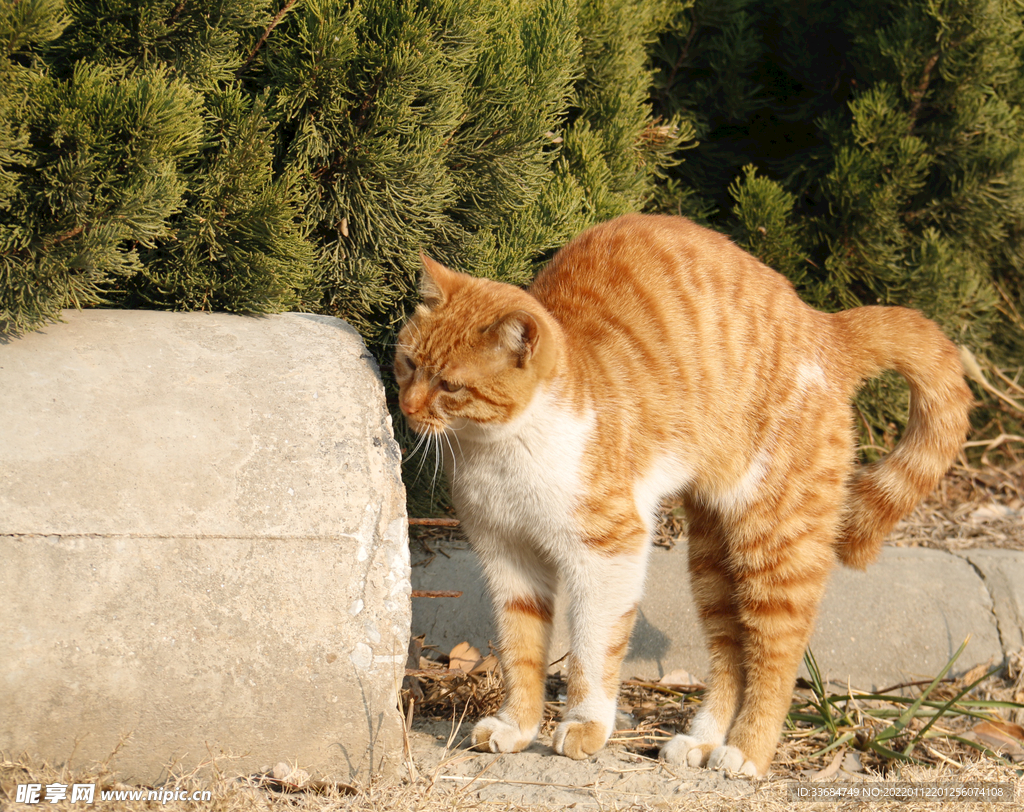橘猫: (395, 215, 971, 775)
